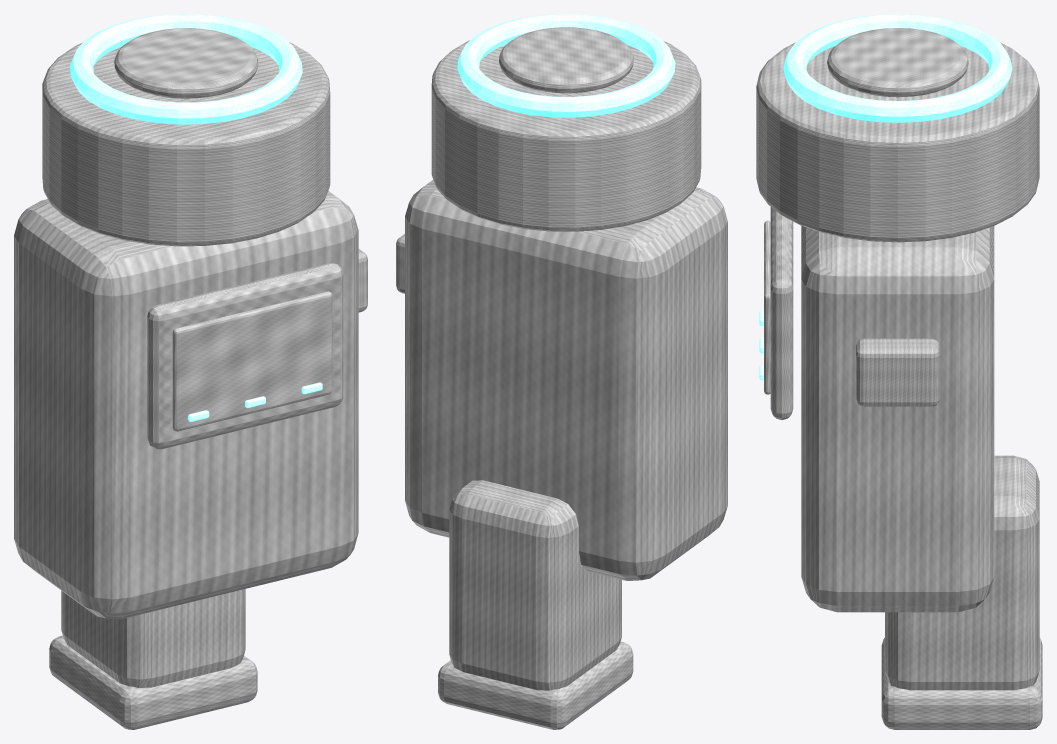
Rendered from object_scanner_variant_a.glb.
3 views of the same model, side by side, from view 1: azimuth 30°, elevation 25°; view 2: azimuth 150°, elevation 25°; view 3: azimuth 270°, elevation 25° (orthographic). The views are drawn at different scales.
Visible parts, largest first — view 1: Main housing, Scanner head housing, Display glass, Pistol grip, Display bezel, Scanner antenna ring, Grip end cap, Scanner lens, Side mode switch; view 2: Main housing, Scanner head housing, Pistol grip, Scanner antenna ring, Grip end cap, Scanner lens; view 3: Main housing, Scanner head housing, Pistol grip, Scanner antenna ring, Scanner lens, Grip end cap, Side mode switch, Display bezel, Display glass.
Part boxes in pixels (box(x1,y1,x2,y2)): Main housing: box(14, 191, 358, 618); Scanner head housing: box(42, 42, 330, 246); Display glass: box(172, 291, 332, 431); Pistol grip: box(61, 589, 245, 687); Display bezel: box(147, 263, 343, 449); Scanner antenna ring: box(70, 14, 302, 124); Grip end cap: box(49, 635, 257, 729); Scanner lens: box(114, 28, 258, 98); Side mode switch: box(358, 249, 367, 312); Main housing: box(405, 180, 727, 580); Scanner head housing: box(431, 40, 701, 231); Pistol grip: box(449, 480, 621, 690); Scanner antenna ring: box(457, 14, 675, 117); Grip end cap: box(438, 641, 633, 729); Scanner lens: box(499, 27, 633, 93); Main housing: box(801, 226, 994, 612); Scanner head housing: box(756, 42, 1039, 242); Pistol grip: box(885, 455, 1039, 690); Scanner antenna ring: box(783, 14, 1012, 122); Scanner lens: box(827, 28, 968, 97); Grip end cap: box(881, 638, 1042, 729); Side mode switch: box(856, 338, 939, 406); Display bezel: box(770, 207, 793, 419); Display glass: box(764, 220, 770, 394).
Size of what is drawn, in the model's own units: 0.5275 by 1.11 by 0.445.
Materials: 8 (8 with a texture image).
